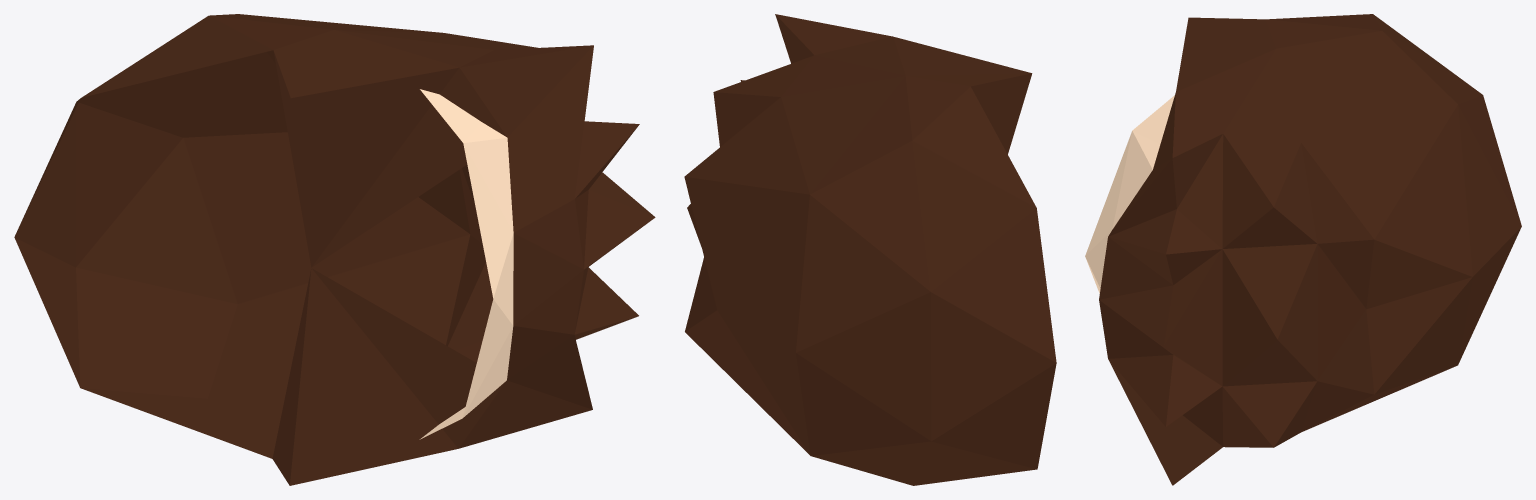
Rendered from hair8.glb.
3 views of the same model, side by side, from view 1: azimuth 30°, elevation 25°; view 2: azimuth 150°, elevation 25°; view 3: azimuth 270°, elevation 25° (orthographic). The views are drawn at different scales.
Parts seen in each view (by area): view 1: tomodachi-2026-03-10-20-23-50-870, tomodachi-2026-03-10-20-23-50-870.008; view 2: tomodachi-2026-03-10-20-23-50-870; view 3: tomodachi-2026-03-10-20-23-50-870, tomodachi-2026-03-10-20-23-50-870.008.
Boxes of the visible parts, bbox=[...] form: tomodachi-2026-03-10-20-23-50-870: bbox=[14, 14, 655, 485]; tomodachi-2026-03-10-20-23-50-870.008: bbox=[419, 89, 513, 439]; tomodachi-2026-03-10-20-23-50-870: bbox=[684, 14, 1056, 485]; tomodachi-2026-03-10-20-23-50-870: bbox=[1099, 14, 1521, 485]; tomodachi-2026-03-10-20-23-50-870.008: bbox=[1085, 95, 1174, 293].
Size of the model in its own units: 1.34 by 1.04 by 1.12.
2 materials, 2 textured.
